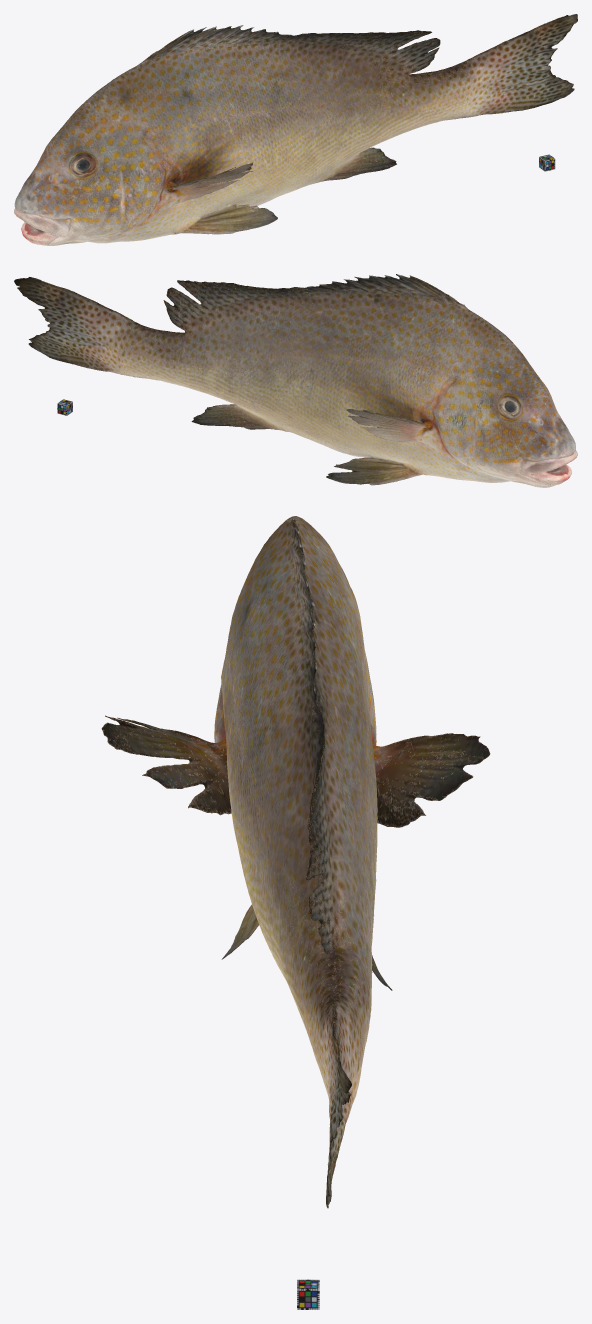
Rendered from scan_sweetlips.glb.
3 views of the same model, one above another, from view 1: azimuth 30°, elevation 25°; view 2: azimuth 150°, elevation 25°; view 3: azimuth 270°, elevation 25° (orthographic). The views are drawn at different scales.
Parts seen in each view (by area): view 1: Object_6; view 2: Object_6; view 3: Object_6.
Boxes of the visible parts, bbox=[...] form: Object_6: bbox=[14, 14, 577, 245]; Object_6: bbox=[14, 274, 577, 487]; Object_6: bbox=[101, 516, 490, 1208].
Bounding box in the file's own units: 0.5429 × 0.2068 × 0.1662.
Materials: 2 (2 with a texture image).
